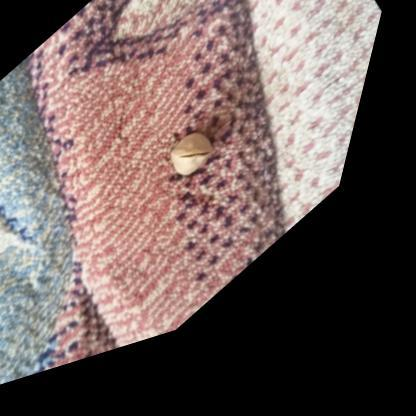pistachio: (167, 129, 212, 177)
